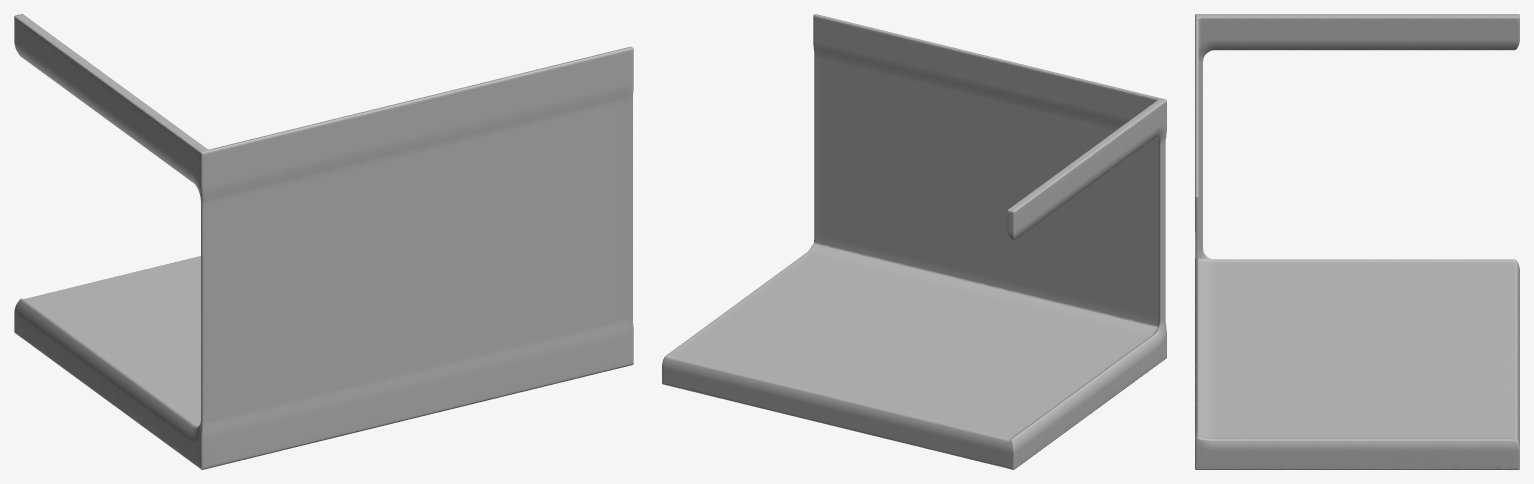
Rendered from base_and_window-transformed.glb.
3 renders of one model, left to right at view 1: azimuth 30°, elevation 25°; view 2: azimuth 150°, elevation 25°; view 3: azimuth 270°, elevation 25°, orthographic. The views are drawn at different scales.
Visible parts, largest first — view 1: model_0; view 2: model_0; view 3: model_0.
Part boxes in pixels (bbox=[...]): model_0: bbox=[14, 14, 633, 469]; model_0: bbox=[662, 14, 1166, 469]; model_0: bbox=[1195, 14, 1519, 469].
Bounding box in the file's own units: 1579 × 1107 × 1188.
1 material, 1 textured.
